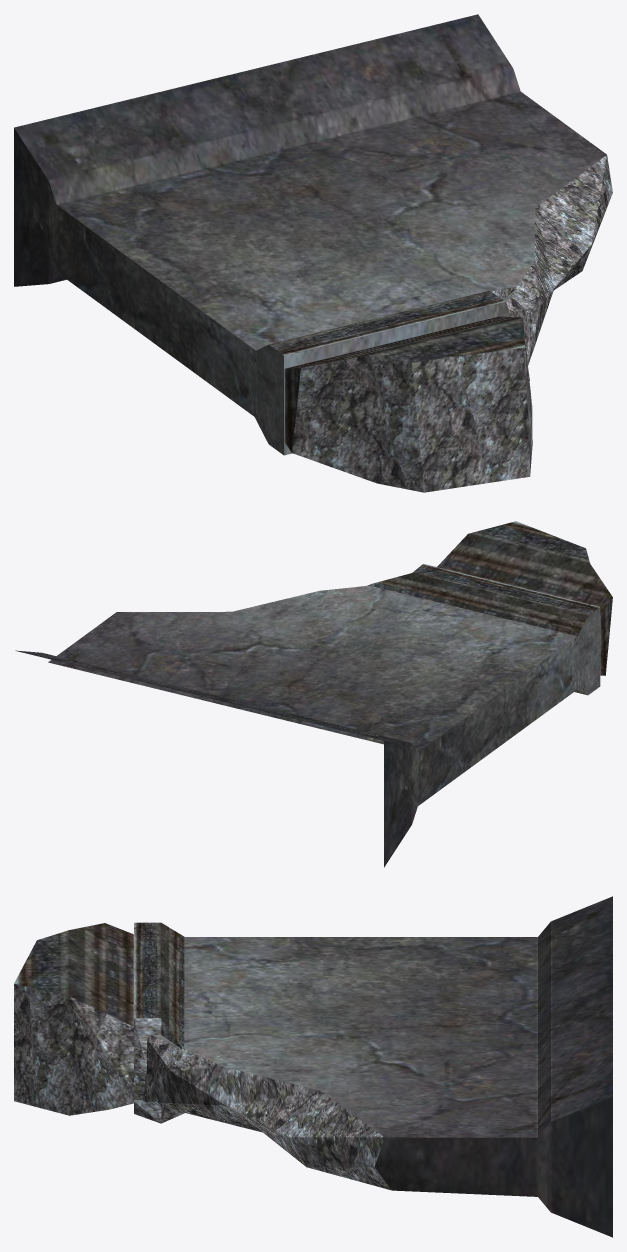
3 renders of one model, top to bottom at view 1: azimuth 30°, elevation 25°; view 2: azimuth 150°, elevation 25°; view 3: azimuth 270°, elevation 25°, orthographic. The views are drawn at different scales.
Visible parts, largest first — view 1: model_Object33; view 2: model_Object33; view 3: model_Object33.
Part boxes in pixels (bbox=[...]): model_Object33: bbox=[14, 14, 612, 492]; model_Object33: bbox=[15, 521, 612, 867]; model_Object33: bbox=[14, 896, 612, 1237].
Bounding box in the file's own units: 2.39 × 0.783 × 3.02.
2 materials, 2 textured.
